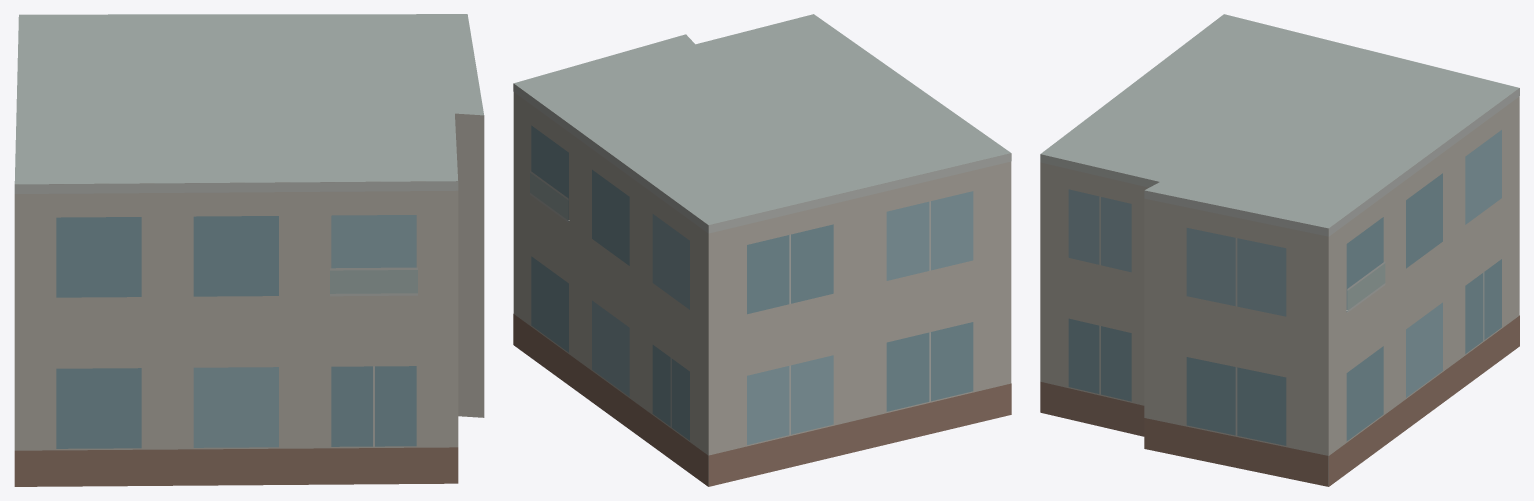
Rendered from survey-upis-32658258.glb.
3 renders of one model, left to right at view 1: azimuth 30°, elevation 25°; view 2: azimuth 150°, elevation 25°; view 3: azimuth 270°, elevation 25°, orthographic. The views are drawn at different scales.
Parts seen in each view (by area): view 1: survey-upis-32658258.tmp; view 2: survey-upis-32658258.tmp; view 3: survey-upis-32658258.tmp.
Part boxes in pixels (x1,y1,x2,y2): survey-upis-32658258.tmp: (14, 14, 484, 486); survey-upis-32658258.tmp: (513, 14, 1011, 486); survey-upis-32658258.tmp: (1040, 14, 1519, 486).
Bounding box in the file's own units: 13.53 × 7.6 × 12.78.
